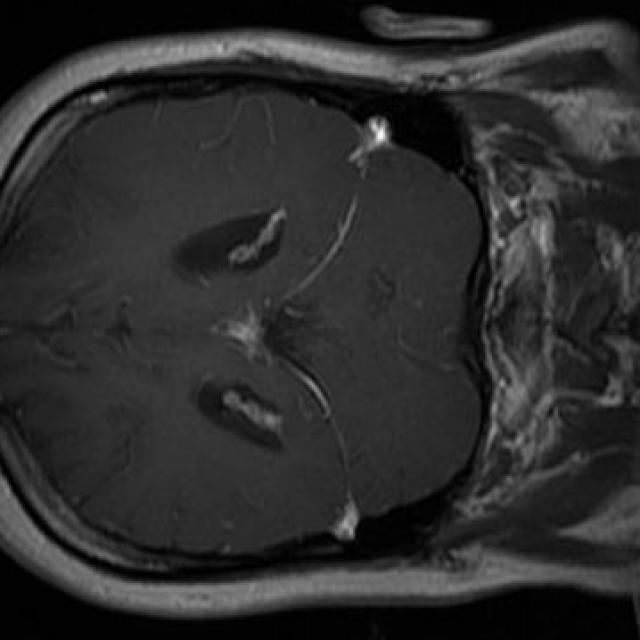glioma: (230, 305, 317, 365)
